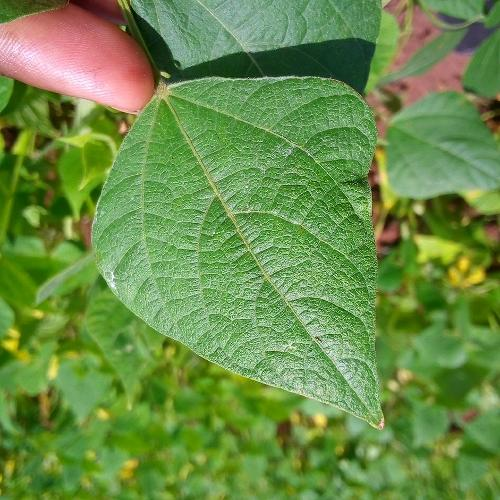sehat: (106, 84, 367, 349)
